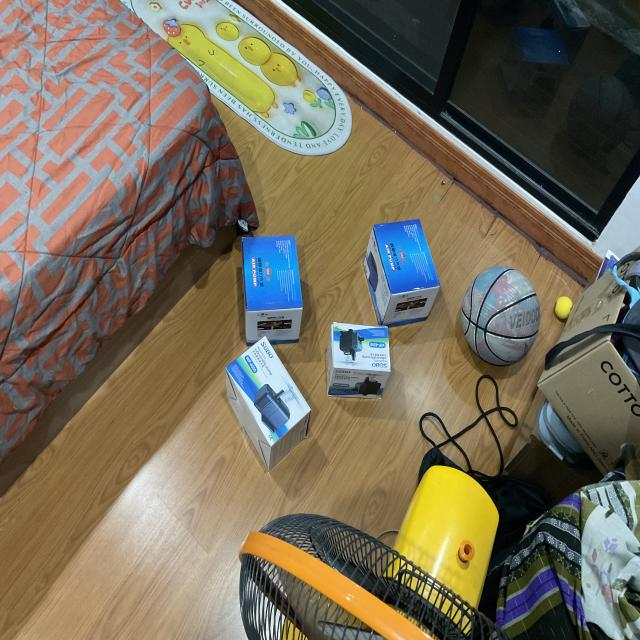SOBO_WP_4200: (222, 333, 316, 467), (326, 296, 403, 390)
YAMANO_LPP_20: (226, 222, 316, 346), (360, 206, 448, 327)
